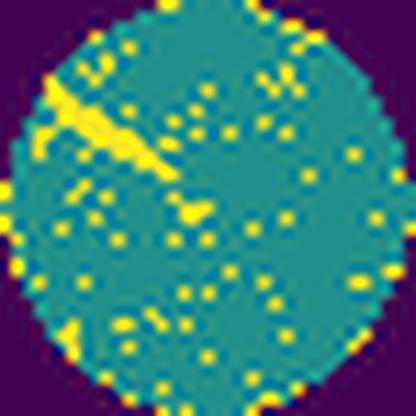Loc: (33, 77, 182, 182)
